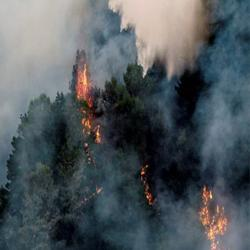fire: (203, 183, 224, 238), (73, 71, 91, 104)
